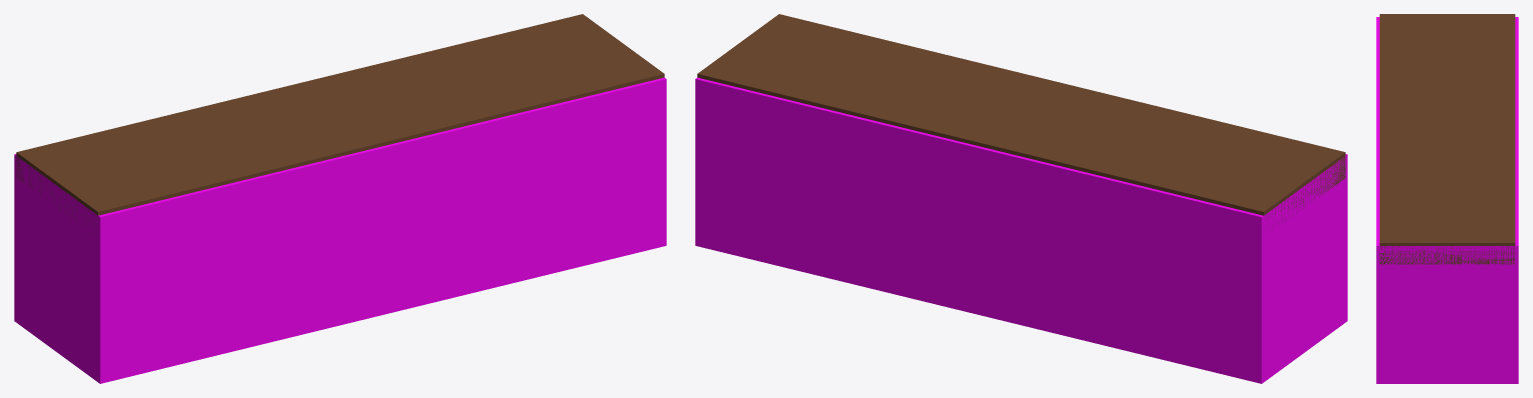
The model's file is PRP_Bench_Wood_A.glb.
3 renders of one model, left to right at view 1: azimuth 30°, elevation 25°; view 2: azimuth 150°, elevation 25°; view 3: azimuth 270°, elevation 25°, orthographic. The views are drawn at different scales.
Visible parts, largest first — view 1: COL_Bench, PRP_Bench_Wood_A_Mesh; view 2: COL_Bench, PRP_Bench_Wood_A_Mesh; view 3: PRP_Bench_Wood_A_Mesh, COL_Bench.
Boxes of the visible parts, x1,y1,x2,y2 form: COL_Bench: [14, 77, 666, 383]; PRP_Bench_Wood_A_Mesh: [16, 14, 664, 233]; COL_Bench: [695, 77, 1347, 383]; PRP_Bench_Wood_A_Mesh: [697, 14, 1345, 225]; PRP_Bench_Wood_A_Mesh: [1379, 14, 1515, 264]; COL_Bench: [1376, 17, 1518, 383].
Bounding box in the file's own units: 1.6 × 0.46 × 0.42.
